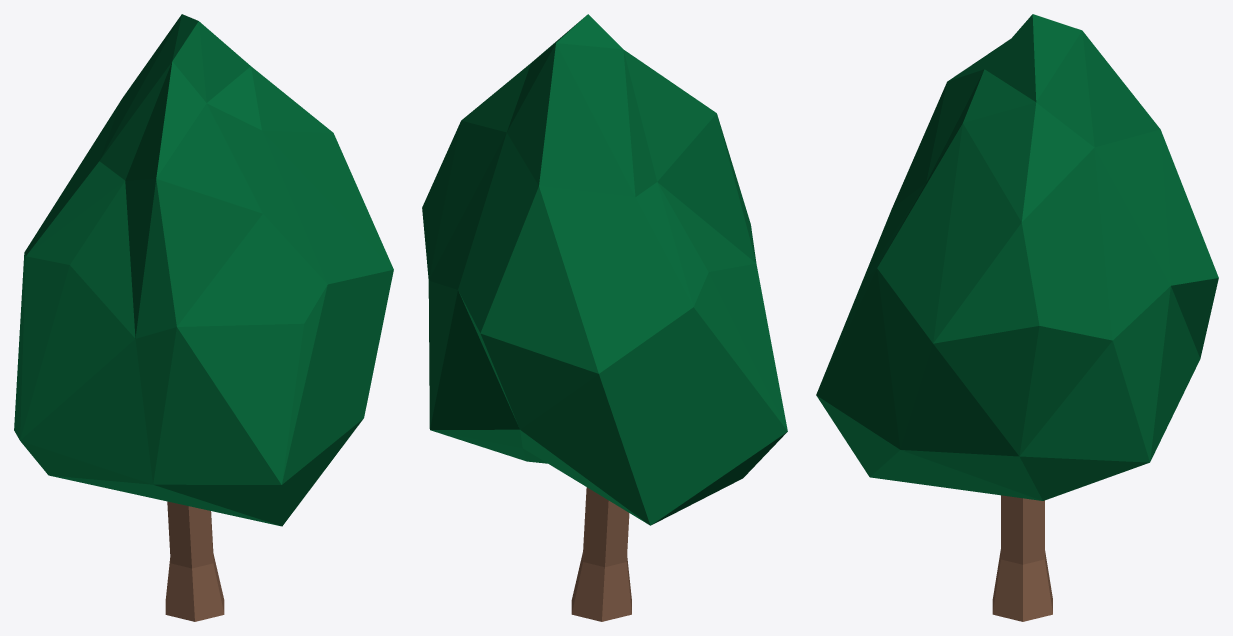
The model's file is tree_4.FBX.
3 renders of one model, left to right at view 1: azimuth 30°, elevation 25°; view 2: azimuth 150°, elevation 25°; view 3: azimuth 270°, elevation 25°, orthographic. The views are drawn at different scales.
Visible parts, largest first — view 1: tree_4; view 2: tree_4; view 3: tree_4.
Part boxes in pixels (box(x1,y1,x2,y2)): tree_4: box(14, 14, 393, 621); tree_4: box(422, 14, 787, 621); tree_4: box(816, 14, 1218, 621).
Size of the model in its own units: 113 by 182 by 111.
